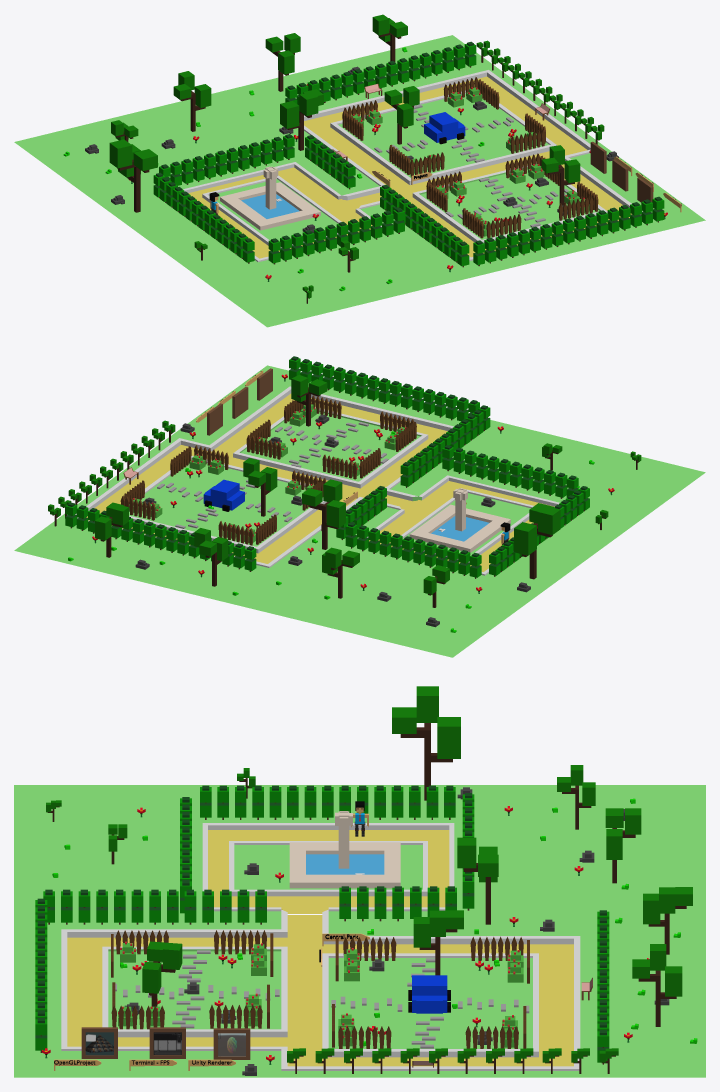
The model's file is portfolio_collider1.glb.
3 views of the same model, one above another, from view 1: azimuth 30°, elevation 25°; view 2: azimuth 150°, elevation 25°; view 3: azimuth 270°, elevation 25° (orthographic). The views are drawn at different scales.
Visible parts, largest first — view 1: Ground, Tree.007, Proj1, Proj2; view 2: Ground, Tree.007, Proj2, Proj3, Proj1; view 3: Ground, Tree.007, Proj1, Proj2, Proj3.
Boxes of the visible parts, x1,y1,x2,y2 form: Ground: (14,35,705,327); Tree.007: (63,14,667,303); Proj1: (590,141,632,176); Proj2: (612,159,653,191); Ground: (14,365,705,657); Tree.007: (48,356,641,632); Proj2: (218,387,248,418); Proj3: (245,368,272,400); Proj1: (196,403,222,435); Ground: (14,785,705,1077); Tree.007: (35,686,697,1075); Proj1: (188,1028,250,1070); Proj2: (129,1027,185,1070); Proj3: (54,1027,117,1070).
Size of what is drawn, in the model's own units: 290 by 52.2 by 288.
Materials: 40 (3 with a texture image).
